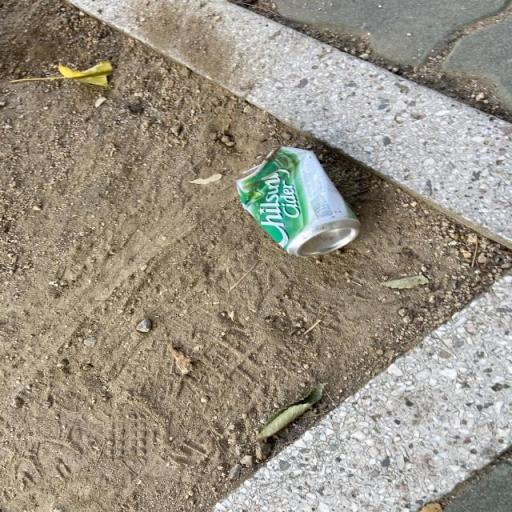metal: (222, 129, 365, 279)
